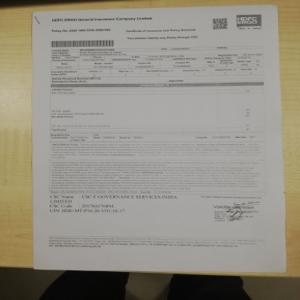image: (235, 13, 263, 28)
table: (49, 83, 264, 141), (50, 46, 265, 82)
text: (52, 143, 263, 195), (49, 191, 182, 216), (123, 26, 200, 43), (46, 14, 157, 25)
